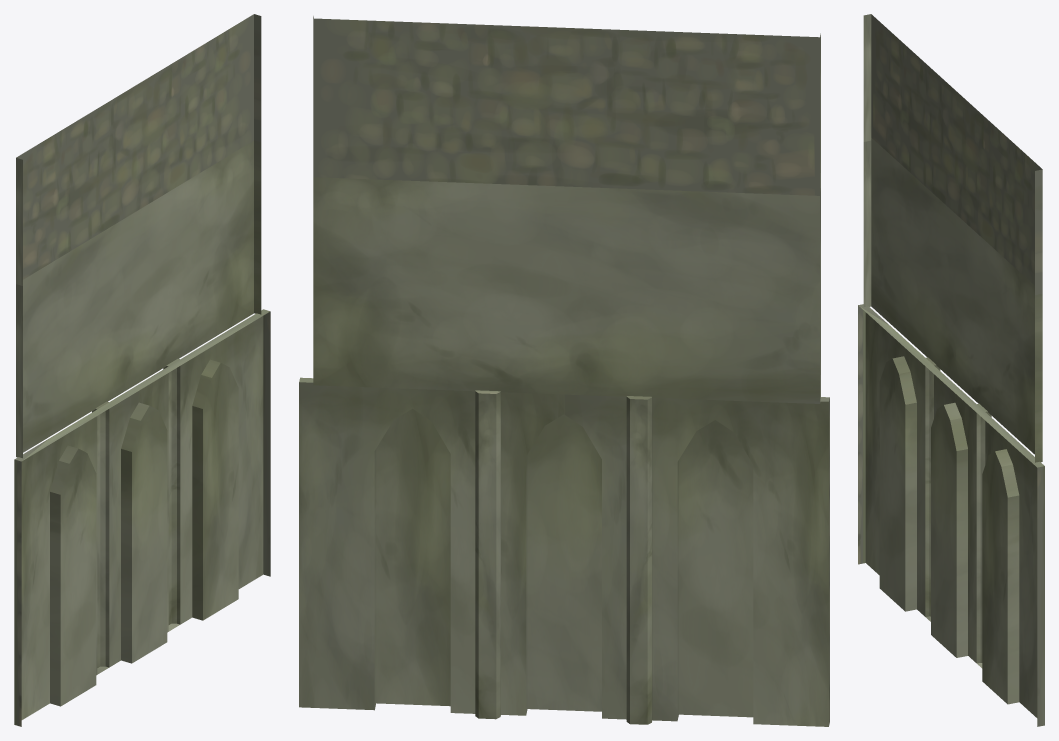
File: prettywall.fbx
3 views of the same model, side by side, from view 1: azimuth 30°, elevation 25°; view 2: azimuth 150°, elevation 25°; view 3: azimuth 270°, elevation 25° (orthographic). The views are drawn at different scales.
Parts seen in each view (by area): view 1: nice_wall_2; view 2: nice_wall_2; view 3: nice_wall_2.
Part boxes in pixels (left/top/right/bottom): nice_wall_2: left=14, top=14, right=270, bottom=726; nice_wall_2: left=299, top=16, right=829, bottom=726; nice_wall_2: left=858, top=14, right=1044, bottom=726.
Bounding box in the file's own units: 9111 × 14280 × 4391.
